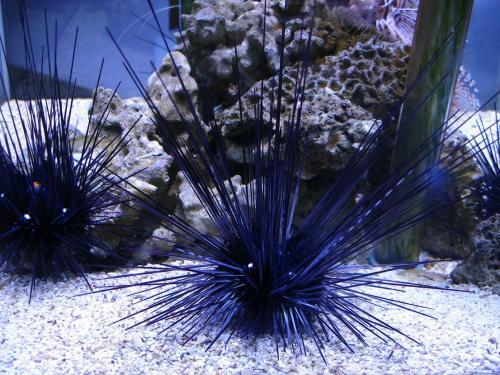urchin: (143, 66, 426, 360), (0, 35, 134, 306)
